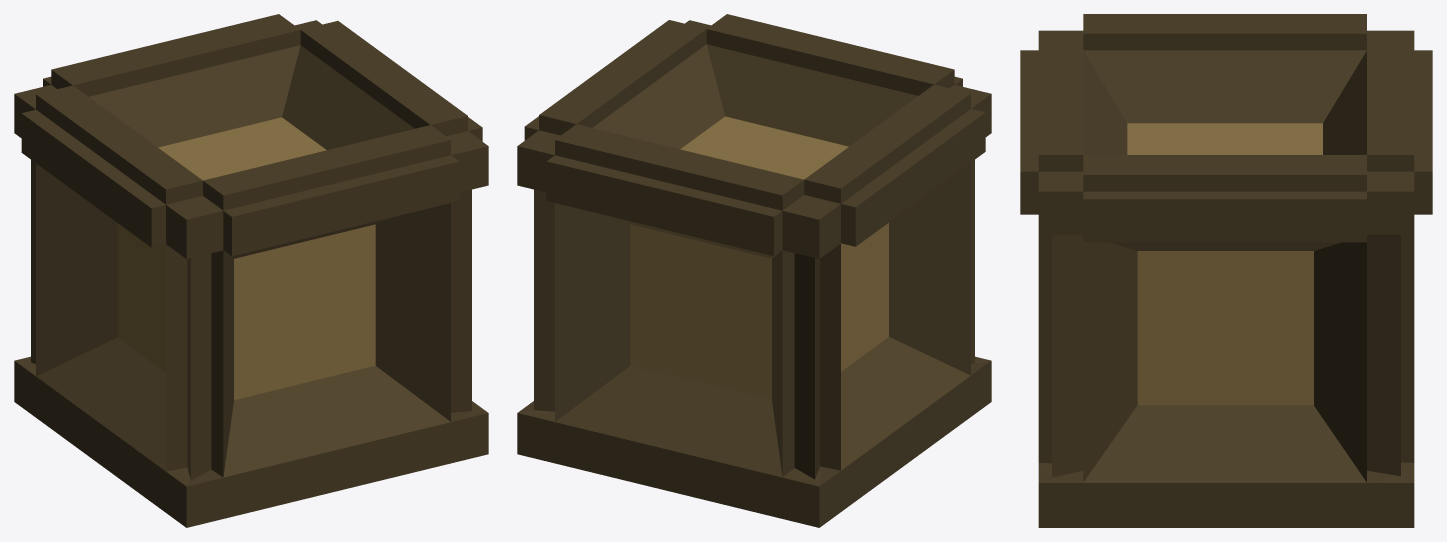
Rendered from Caja.fbx.
3 views of the same model, side by side, from view 1: azimuth 30°, elevation 25°; view 2: azimuth 150°, elevation 25°; view 3: azimuth 270°, elevation 25° (orthographic). The views are drawn at different scales.
Visible parts, largest first — view 1: pCube1; view 2: pCube1; view 3: pCube1.
Part boxes in pixels (box(x1,y1,x2,y2)): pCube1: box(14, 14, 488, 527); pCube1: box(517, 14, 991, 527); pCube1: box(1020, 14, 1432, 527).
Size of the model in its own units: 5.63 by 5.26 by 5.57.
